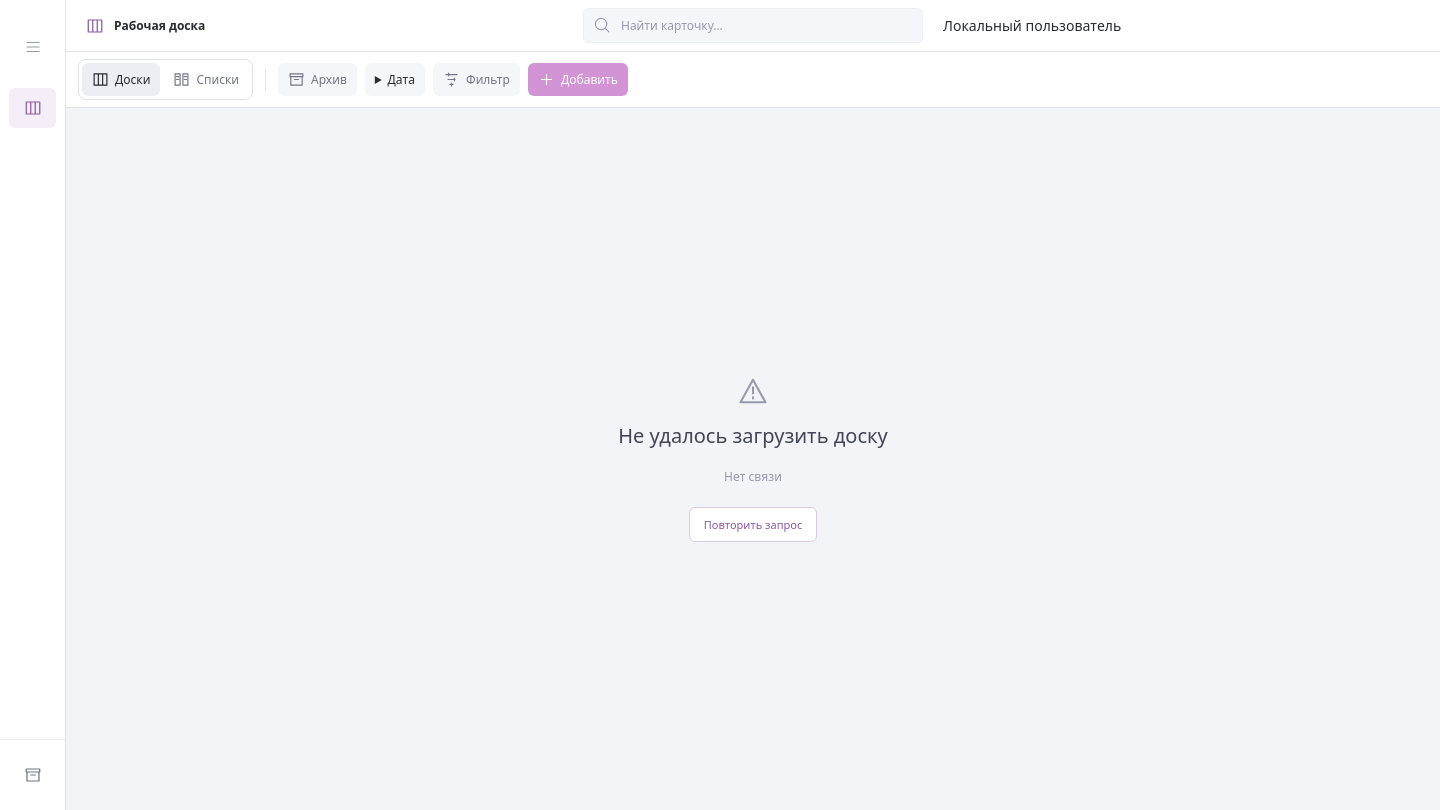
Test: working board homepage › shows an error and retries the list request
Expected: the message shows "Нет связи", [724,468,782,485]
Click the button "Повторить запрос" at coordinates (753, 525), box [689,507,817,542]
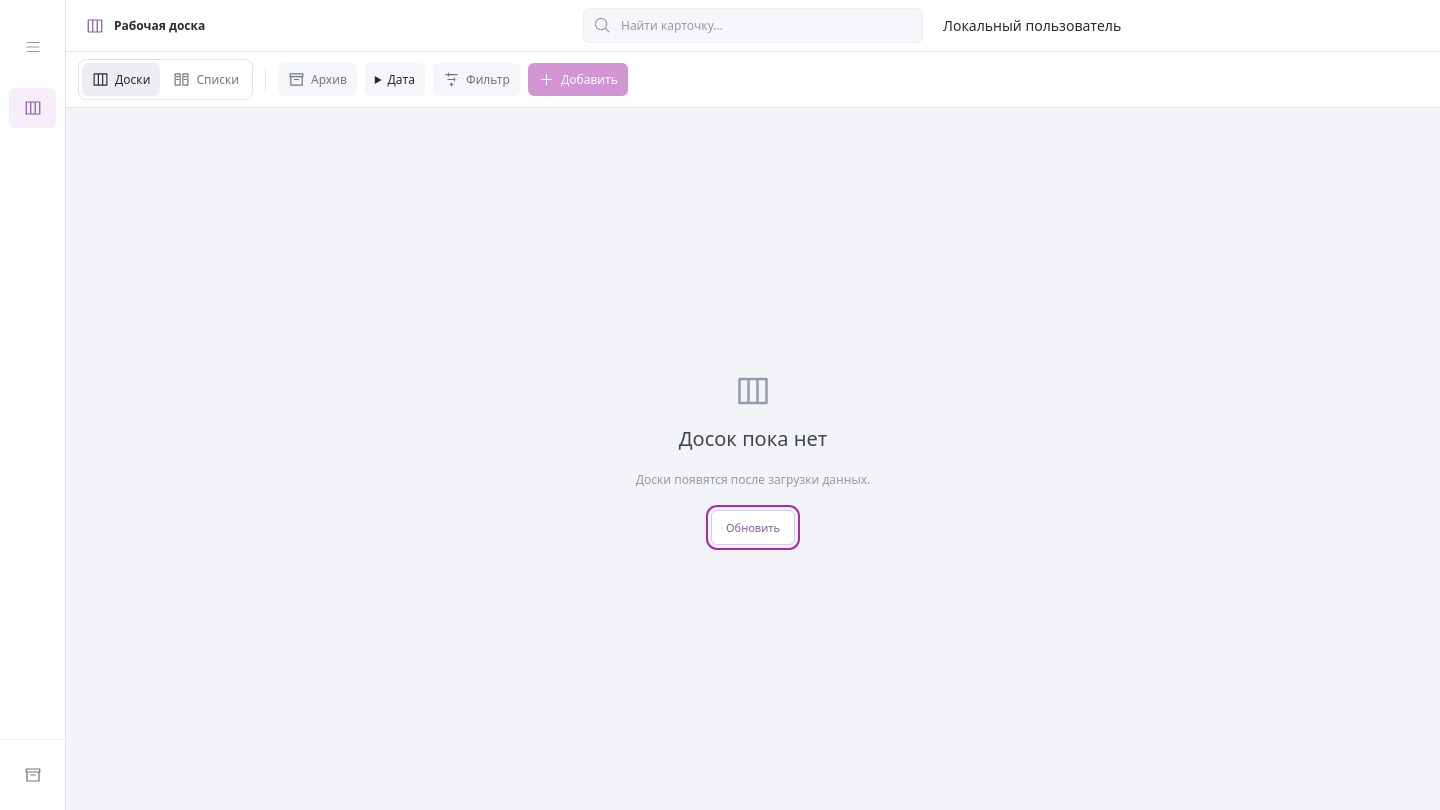
Expected: the heading "Досок пока нет" is shown, [679,425,827,452]
